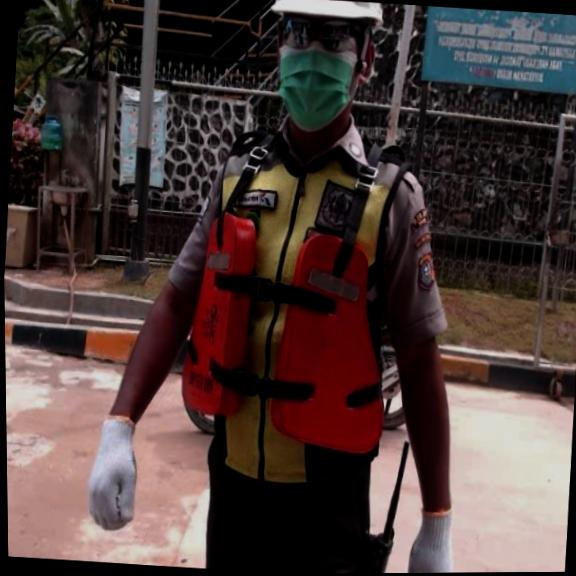safety_vest: (170, 201, 405, 442)
